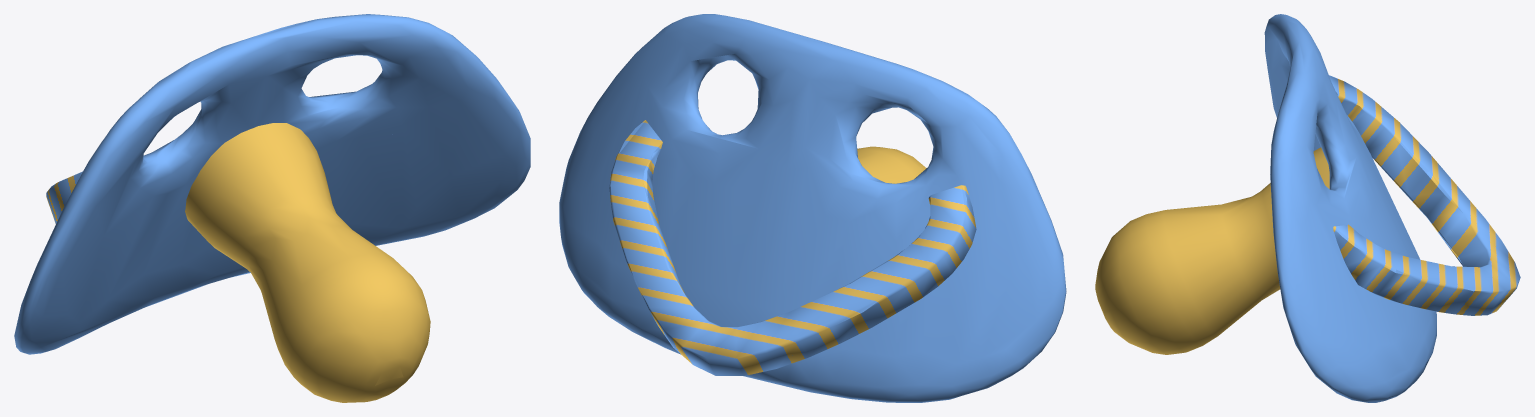
File: Pacifier.FBX
The picture shows the model from 3 angles, left to right: view 1: azimuth 30°, elevation 25°; view 2: azimuth 150°, elevation 25°; view 3: azimuth 270°, elevation 25°; orthographic projection. The views are drawn at different scales.
Visible parts, largest first — view 1: pacifier; view 2: pacifier; view 3: pacifier.
Part boxes in pixels (bbox=[...]): pacifier: bbox=[14, 14, 530, 402]; pacifier: bbox=[559, 14, 1066, 402]; pacifier: bbox=[1095, 14, 1520, 402].
Size of the model in its own units: 6.86 by 4.02 by 5.3.
